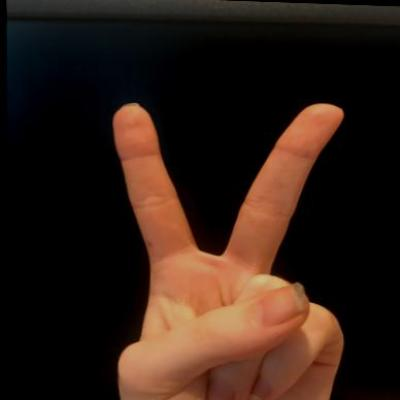hand: (97, 93, 358, 399)
